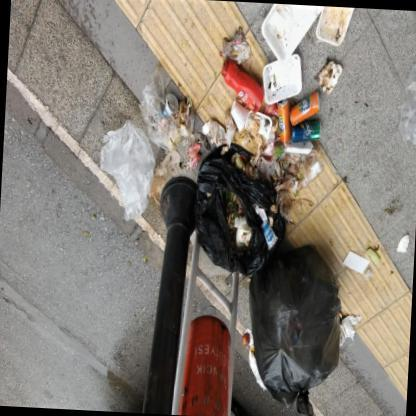Garbage: (171, 12, 360, 269), (238, 249, 351, 415), (244, 71, 326, 206), (225, 30, 348, 118), (117, 64, 206, 179), (89, 92, 160, 236), (216, 182, 284, 270), (246, 2, 346, 60), (210, 15, 257, 127), (342, 239, 388, 285)
